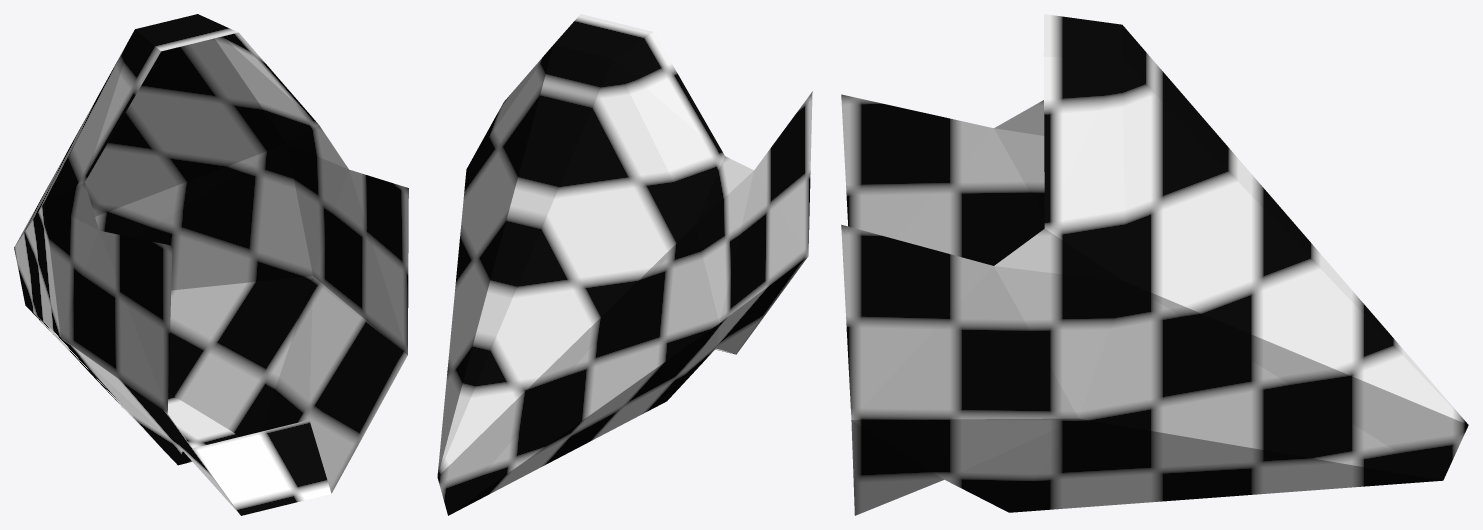
Rendered from initarhl7.dae.
The picture shows the model from 3 angles, left to right: view 1: azimuth 30°, elevation 25°; view 2: azimuth 150°, elevation 25°; view 3: azimuth 270°, elevation 25°; orthographic projection. The views are drawn at different scales.
Parts seen in each view (by area): view 1: armor; view 2: armor; view 3: armor.
Part boxes in pixels (x1,y1,x2,y2): armor: (14, 14, 408, 515); armor: (437, 14, 812, 515); armor: (841, 14, 1468, 515).
Size of the model in its own units: 0.6418 by 1.22 by 0.9795.
Materials: 1 (1 with a texture image).
